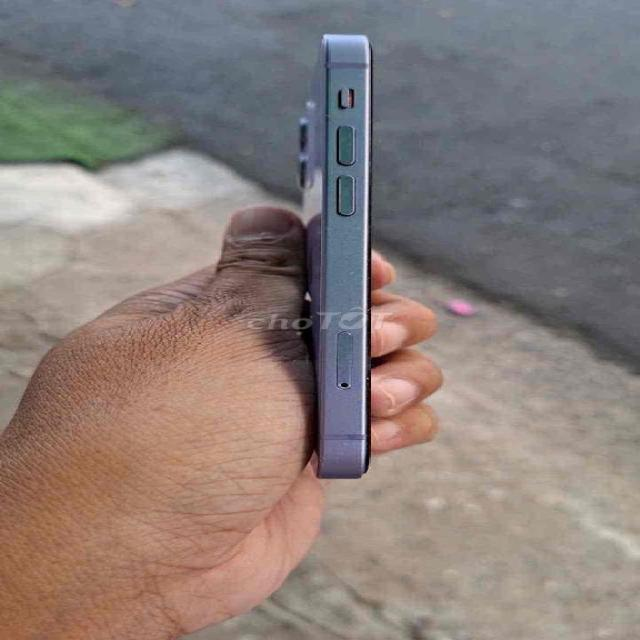scratch: (325, 229, 376, 316)
